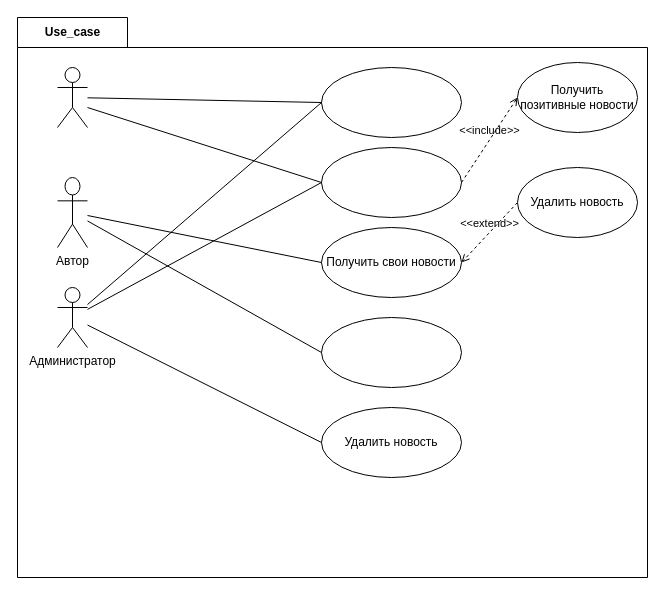
The diagram is 665 pixels wide and 595 high, and some of its shapes have lost their labels. The centre of each missing label's shape, as x and y in pixels:
"Получить заголовки новостей" belongs at pixel 391 182.
"Получить категории" belongs at pixel 391 102.
"Создать новость" belongs at pixel 391 352.
"Читатель" belongs at pixel 72 97.
